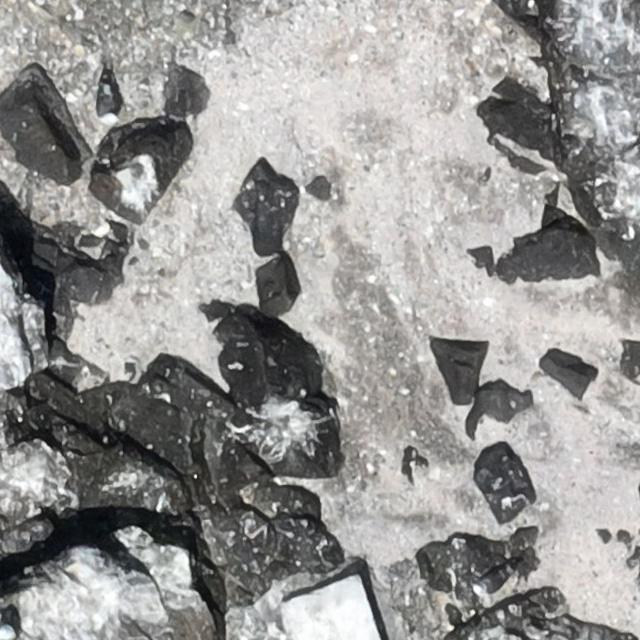umineko: (95, 78, 119, 125)
